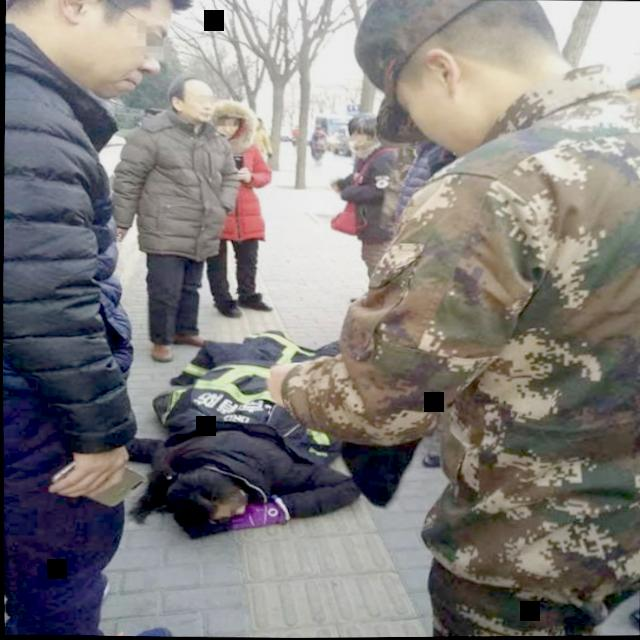Fall-Detected: (118, 311, 374, 567)
